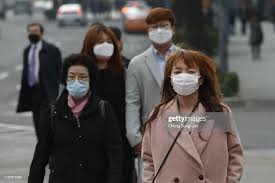mask: (162, 48, 210, 113), (57, 50, 95, 102), (77, 23, 124, 59), (143, 6, 181, 42), (23, 18, 48, 47)
